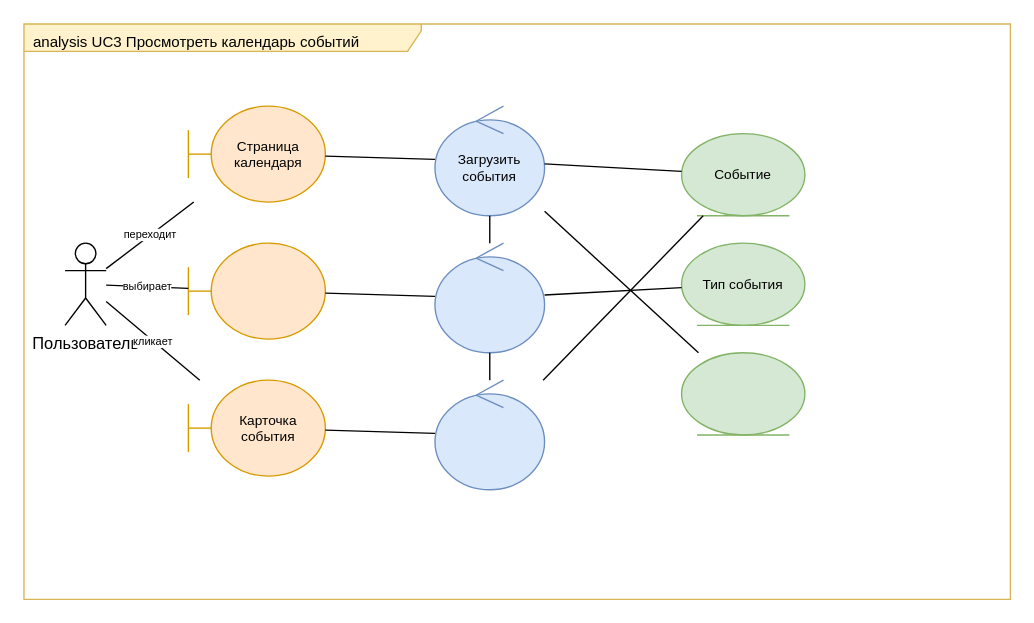
Image size: 1034x623. Some labels were removed from this diagram. Each missing label, with the centre of its shape:
Календарь: the point at 742,393
Отфильтровать: the point at 489,297
Показать детали: the point at 489,434
Фильтр типа: the point at 256,290
